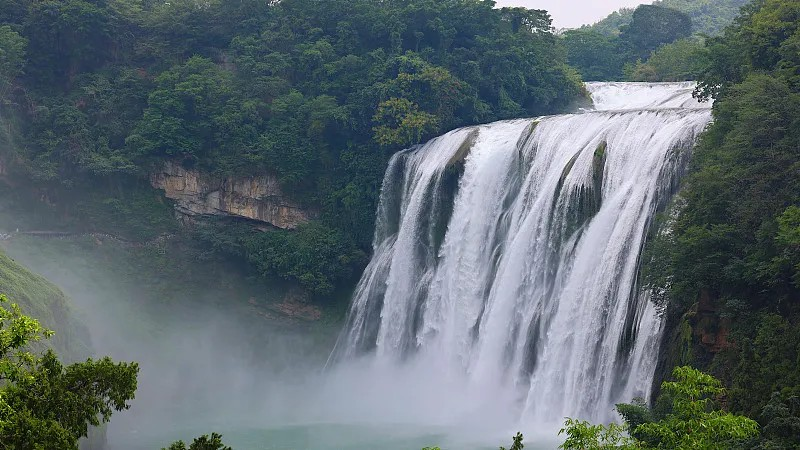Huangguoshu: (343, 81, 715, 414)
